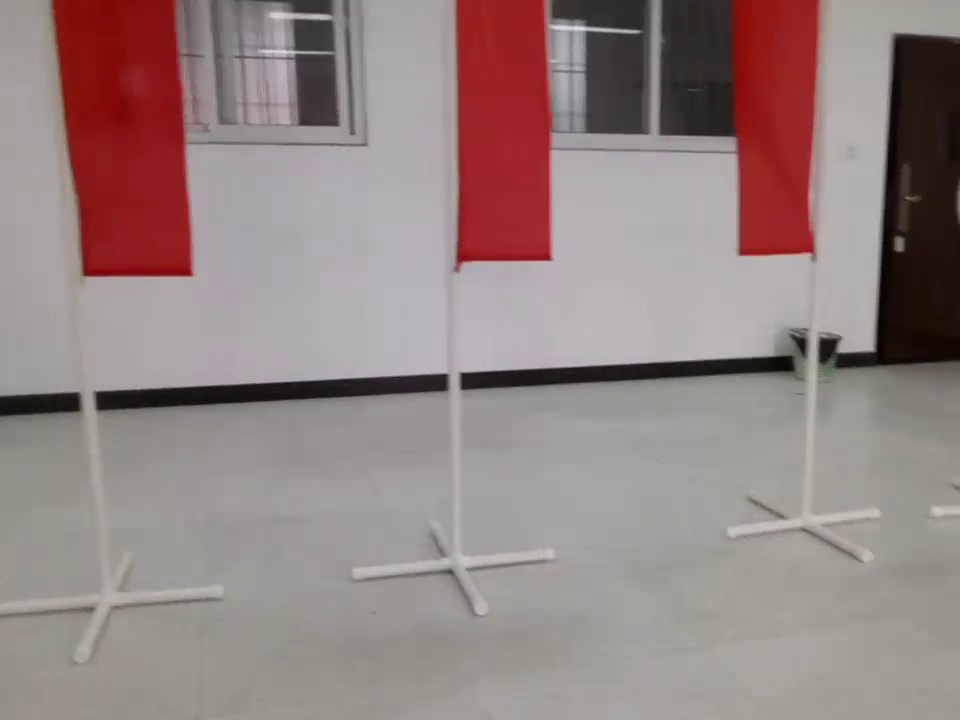qi: (47, 1, 209, 287), (435, 1, 563, 264), (731, 1, 826, 264)
